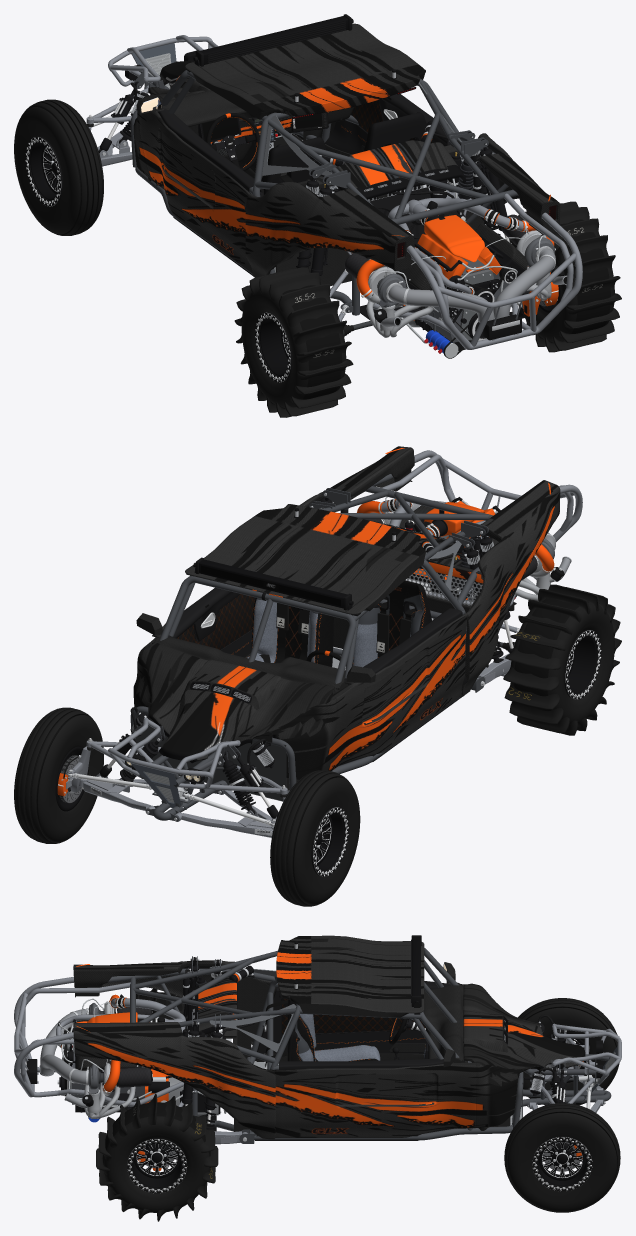
File: sandcar.glb
The picture shows the model from 3 angles, top to bottom: view 1: azimuth 30°, elevation 25°; view 2: azimuth 150°, elevation 25°; view 3: azimuth 270°, elevation 25°; orthographic projection. The views are drawn at different scales.
Visible parts, largest first — view 1: Chassis_Mesh, Wheel_RL_Mesh, Wheel_FL_Mesh, Wheel_RR_Mesh, LightBar, SteeringWheel_Mesh, Shock_RR_2, Shock_FL_2; view 2: Chassis_Mesh, Wheel_RL_Mesh, Wheel_FL_Mesh, Wheel_FR_Mesh, LightBar, Link_FL_Lower_0, Link_FR_Lower_0, Upright_FR, Shock_FL; view 3: Chassis_Mesh, Wheel_RR_Mesh, Wheel_FR_Mesh, Wheel_FL_Mesh, LightBar.
Boxes of the visible parts, x1,y1,x2,y2 form: Chassis_Mesh: [108, 19, 582, 358]; Wheel_RL_Mesh: [234, 267, 353, 417]; Wheel_FL_Mesh: [14, 99, 103, 235]; Wheel_RR_Mesh: [509, 201, 621, 352]; LightBar: [195, 14, 351, 66]; SteeringWheel_Mesh: [206, 113, 259, 170]; Shock_RR_2: [478, 139, 509, 242]; Shock_FL_2: [98, 81, 138, 152]; Chassis_Mesh: [108, 446, 582, 821]; Wheel_RL_Mesh: [503, 584, 621, 735]; Wheel_FL_Mesh: [270, 770, 360, 906]; Wheel_FR_Mesh: [14, 707, 103, 843]; LightBar: [195, 557, 351, 610]; Link_FL_Lower_0: [175, 808, 276, 837]; Link_FR_Lower_0: [79, 773, 155, 810]; Upright_FR: [57, 746, 93, 796]; Shock_FL: [222, 751, 255, 814]; Chassis_Mesh: [14, 935, 621, 1143]; Wheel_RR_Mesh: [96, 1093, 218, 1221]; Wheel_FR_Mesh: [504, 1103, 620, 1212]; Wheel_FL_Mesh: [518, 998, 619, 1105]; LightBar: [411, 935, 421, 1006].
Bounding box in the file's own units: 2.29 × 1.6 × 4.5.
98 materials, 39 textured.
